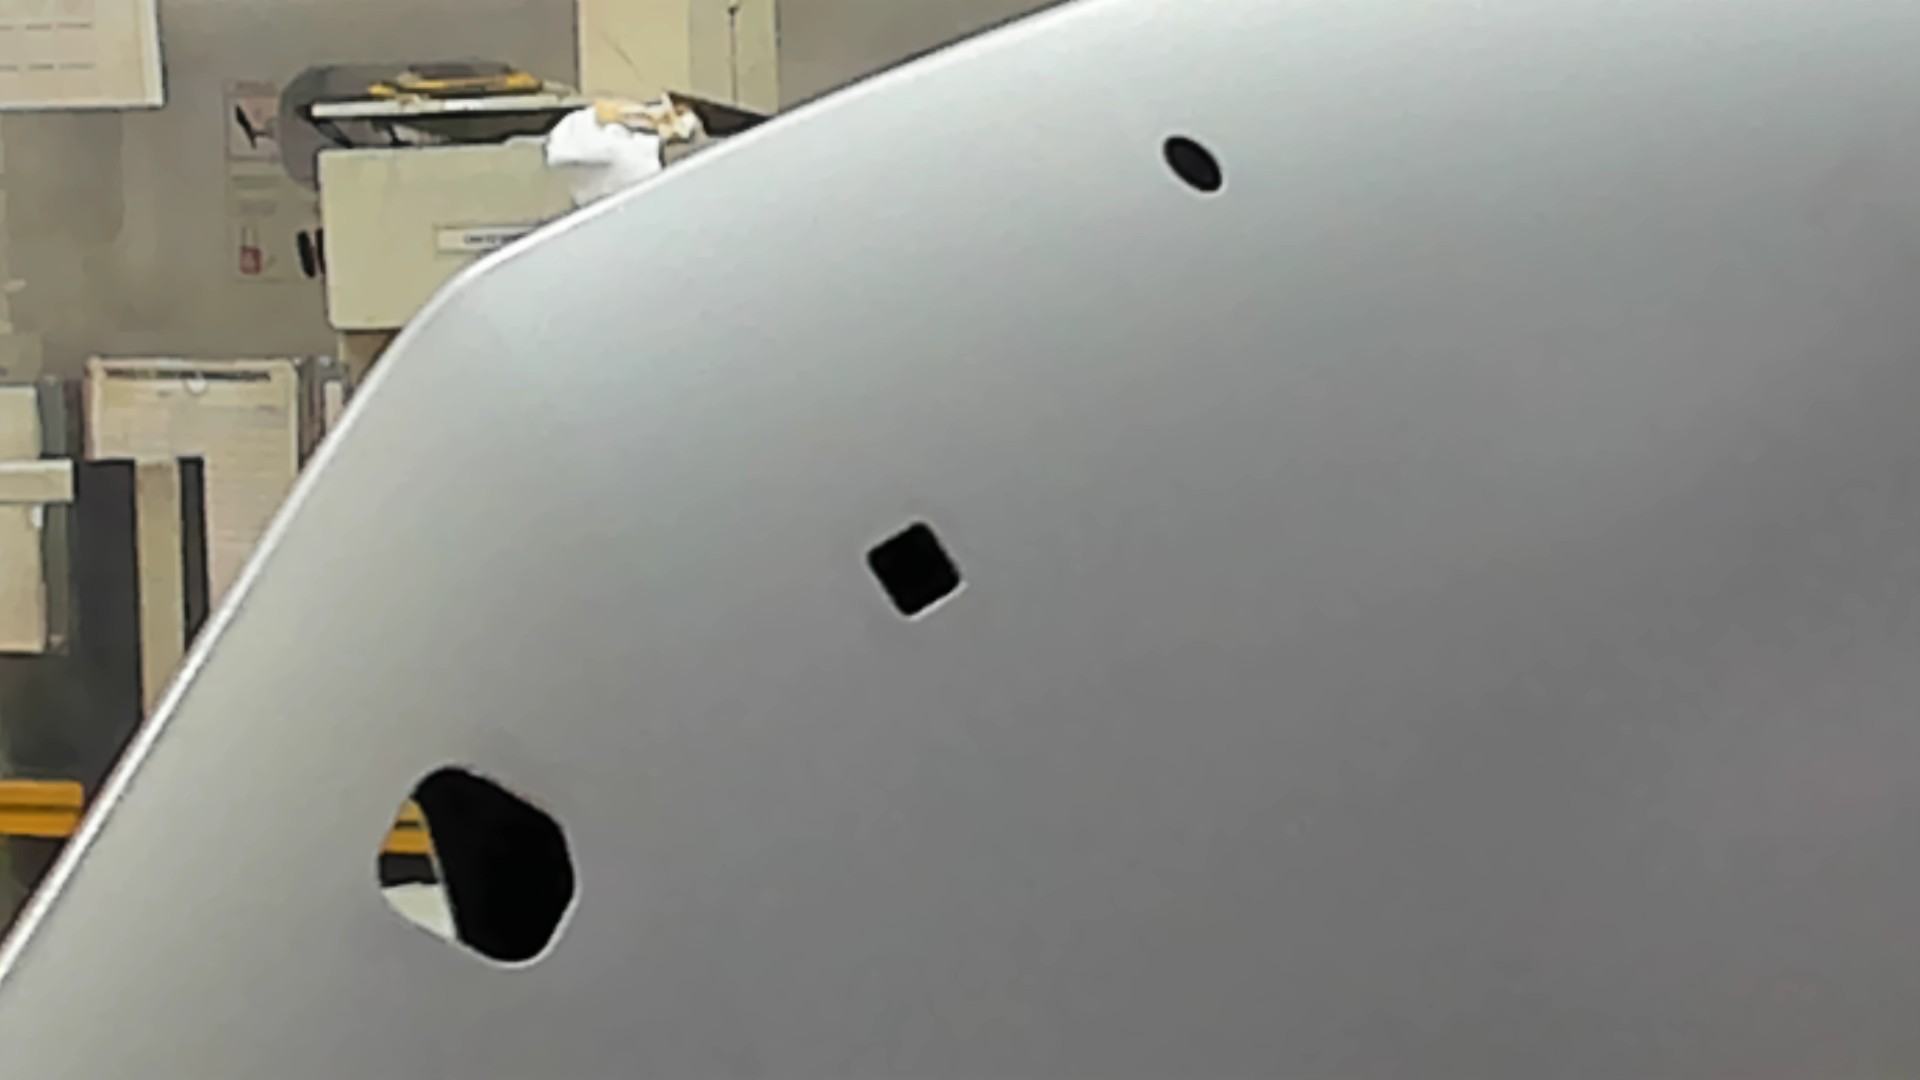Agujero: (864, 516, 967, 621), (1160, 132, 1226, 195)
Agujerote: (372, 764, 583, 971)
